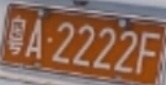A: (25, 19, 41, 59)
